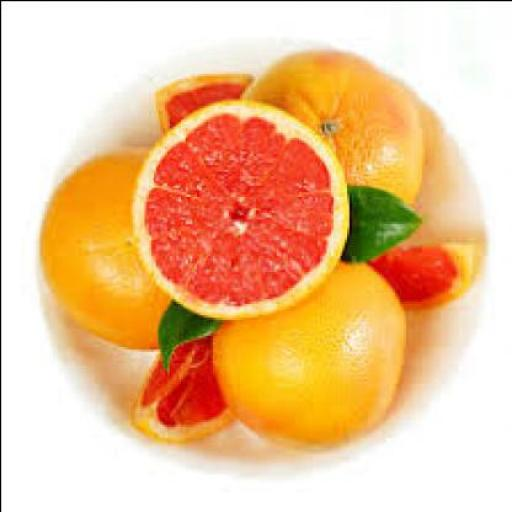biodegradable: (137, 95, 353, 317), (214, 255, 408, 444), (39, 146, 216, 348), (239, 47, 428, 221), (130, 321, 237, 437), (353, 235, 484, 307), (342, 182, 425, 271), (157, 70, 255, 137), (157, 298, 223, 364)
